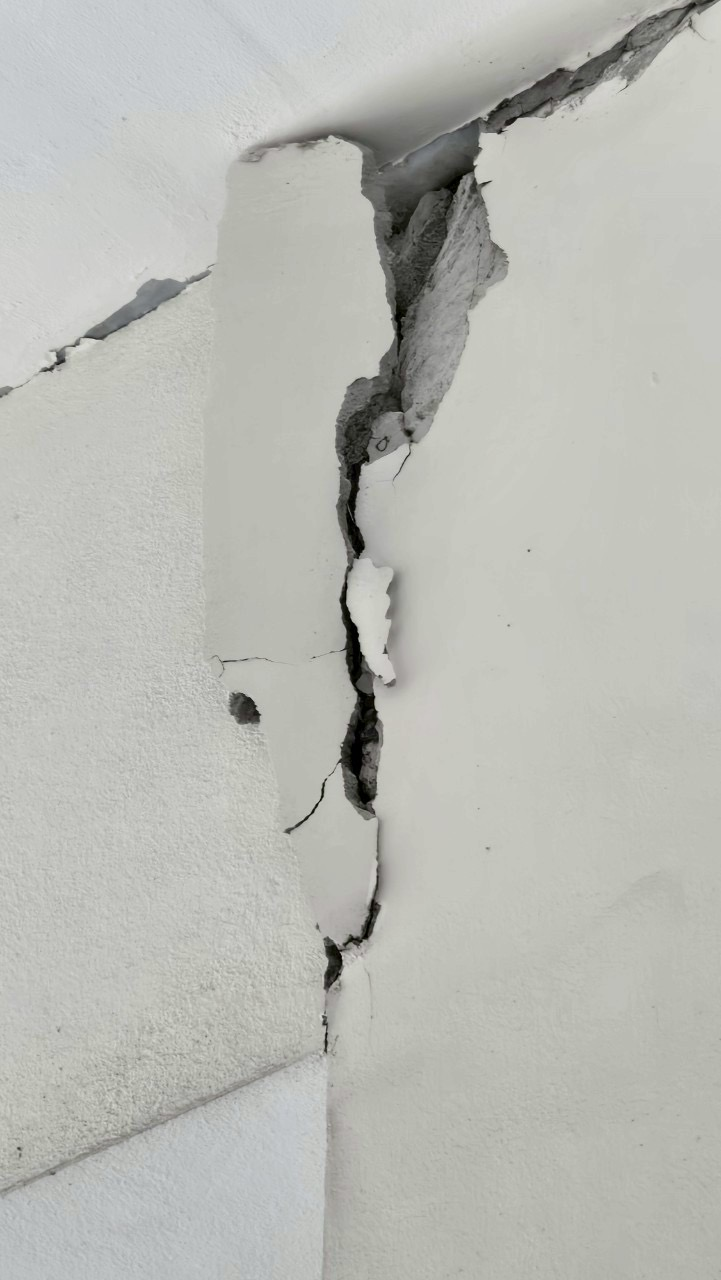High: (132, 1, 720, 1077)
